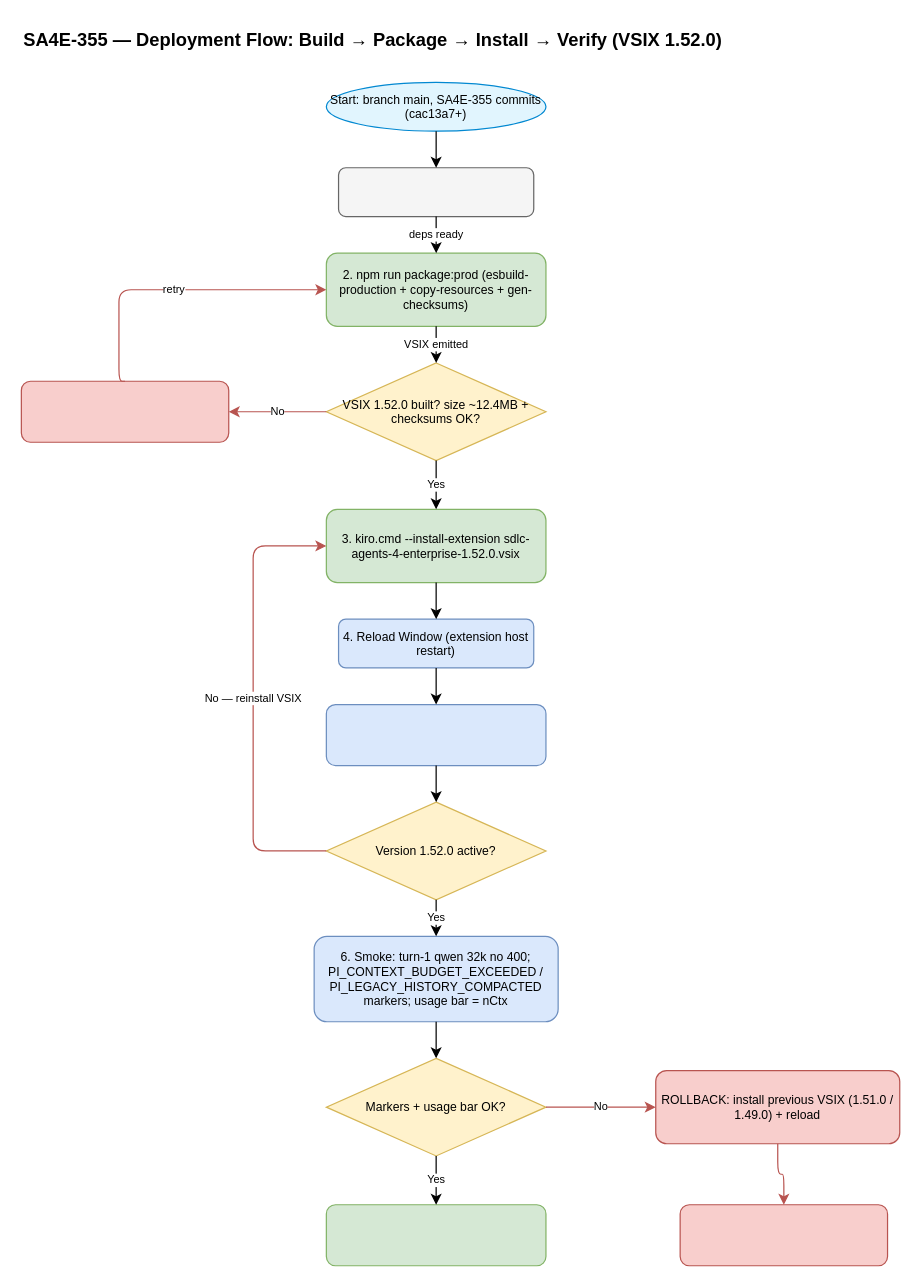
Image size: 921x1287. Some labels were removed from this diagram. The box of each missing label's shape, as (x1, y1, x2, y2) in pixels:
1. npm ci (extension/): (337, 167, 534, 217)
5. kiro.cmd --list-extensions --show-versions: (325, 703, 546, 766)
Fix build — rerun package:prod: (20, 380, 229, 442)
GO: git tag v1.52.0 + commit DPG/RLN/README: (325, 1204, 546, 1266)
Investigate root cause + report (no retry without approval): (679, 1204, 888, 1266)
